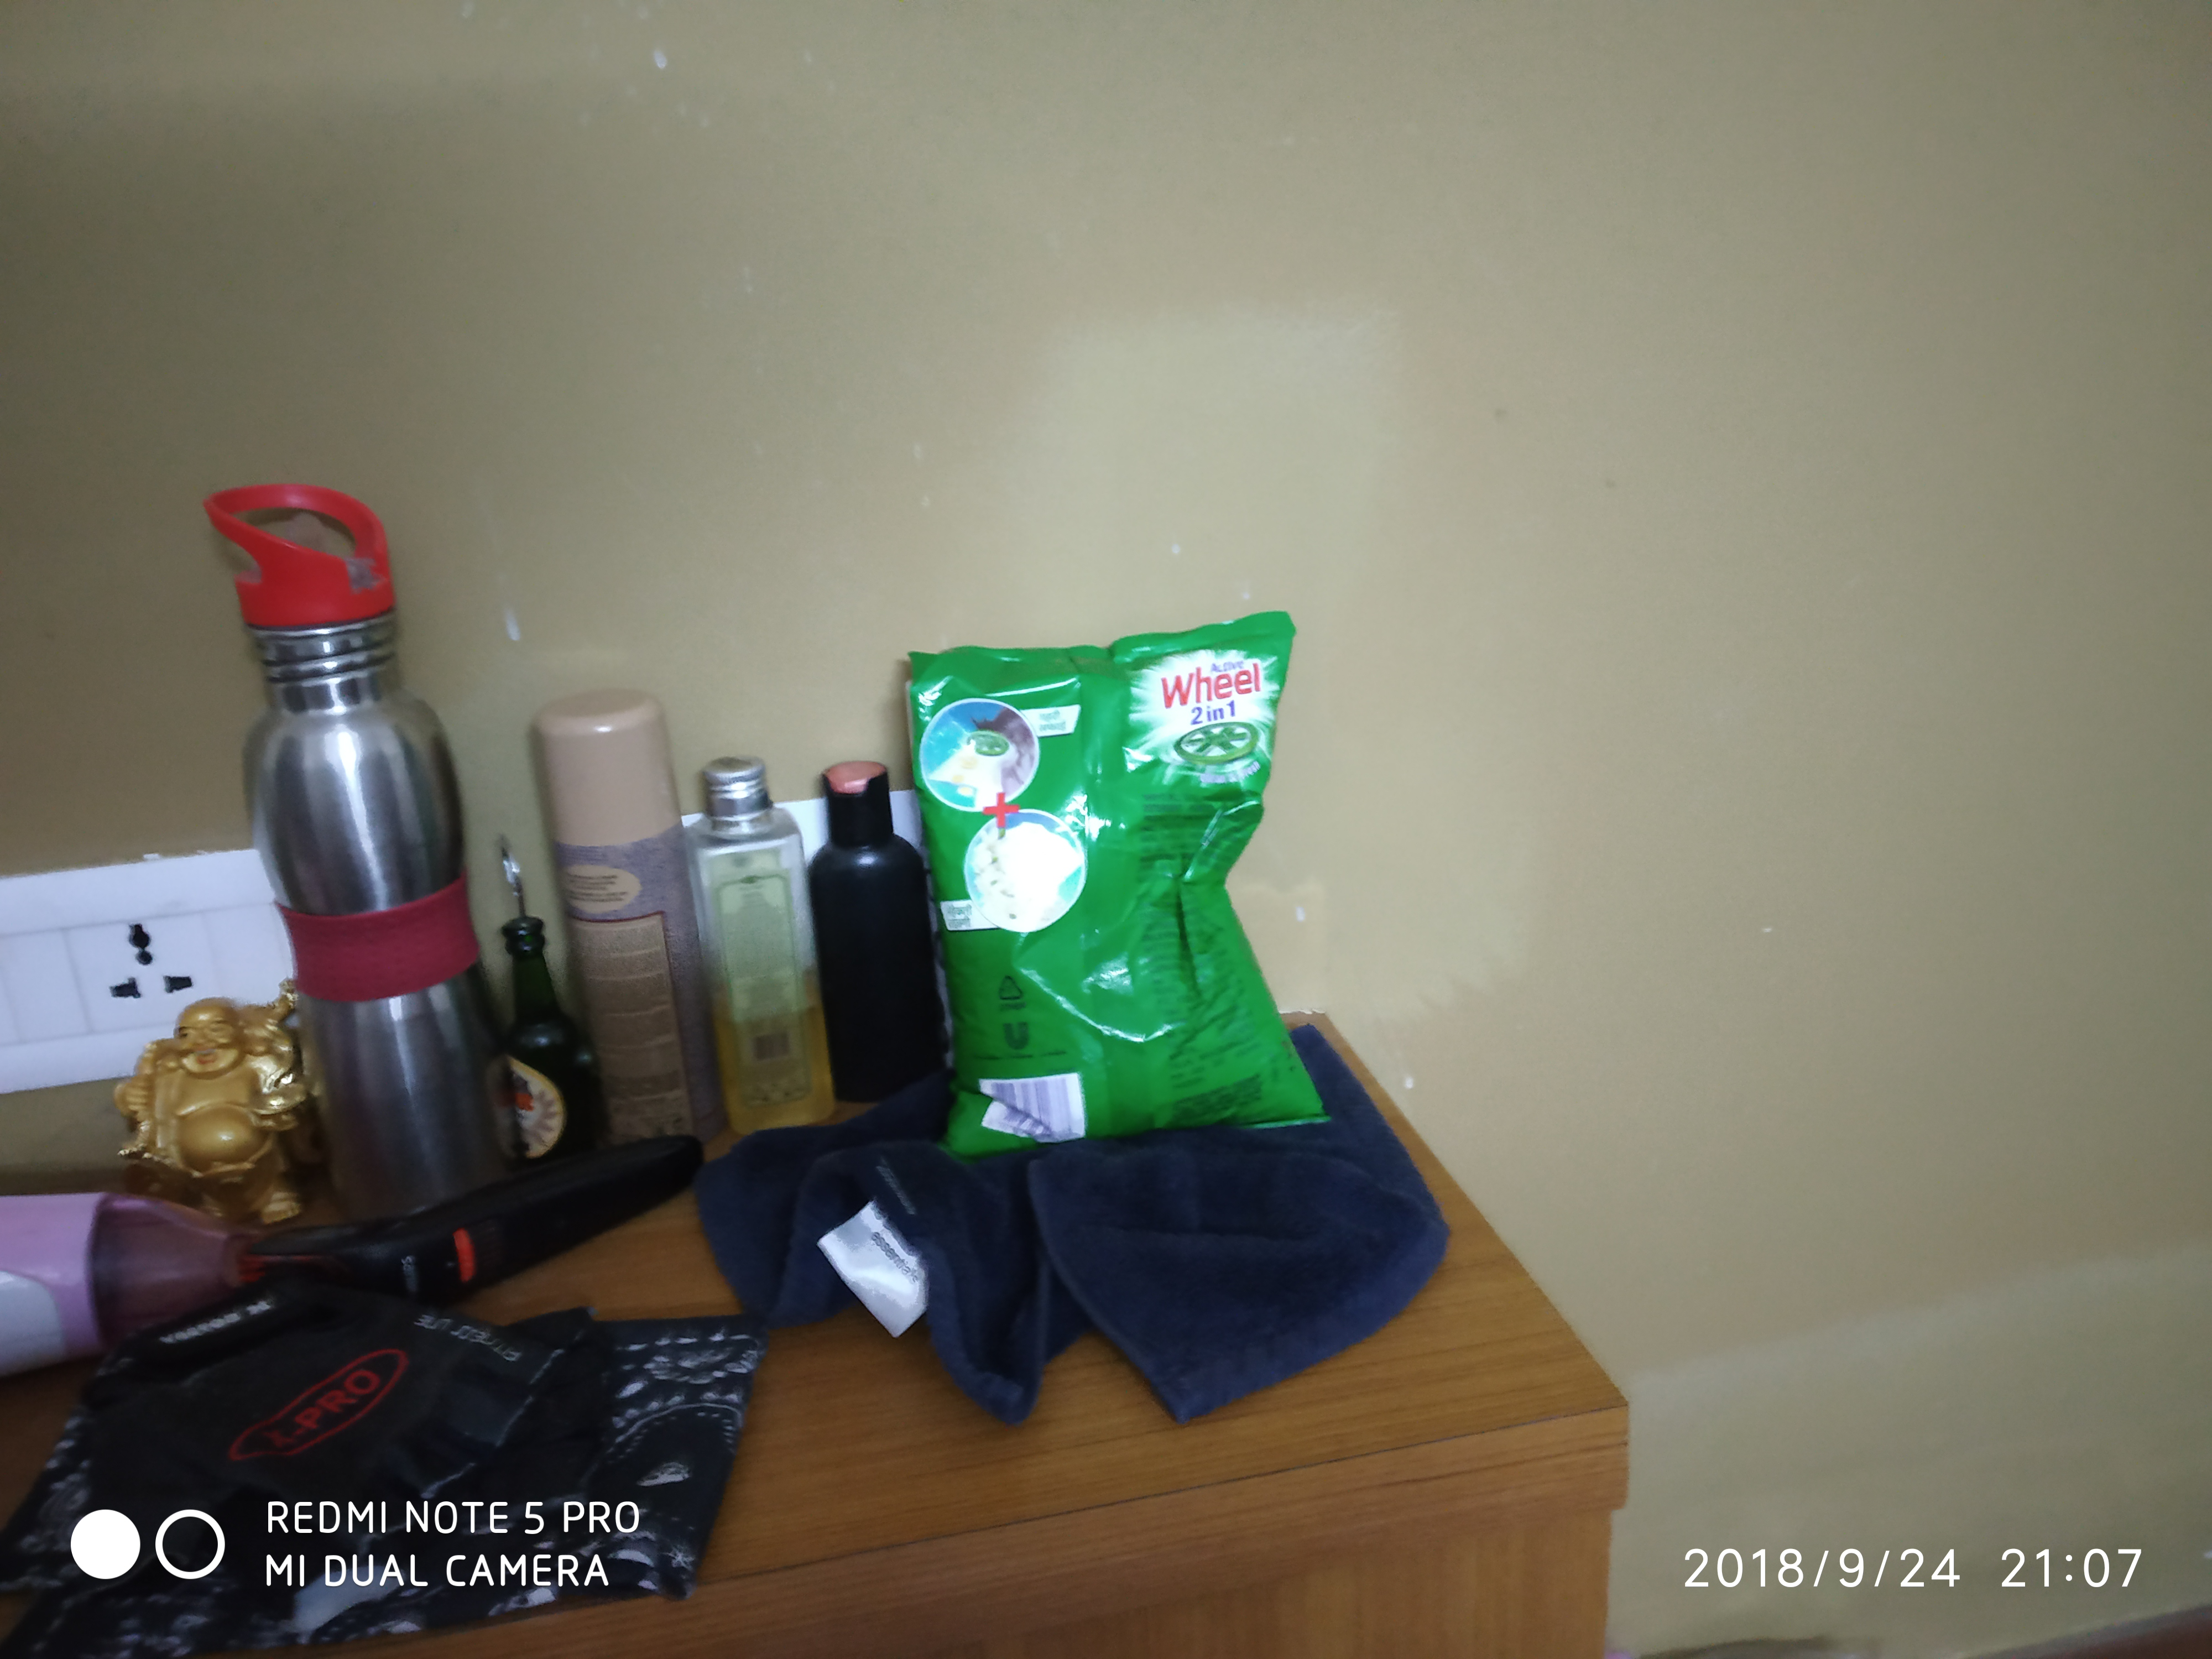detergent: (893, 618, 1331, 1134)
